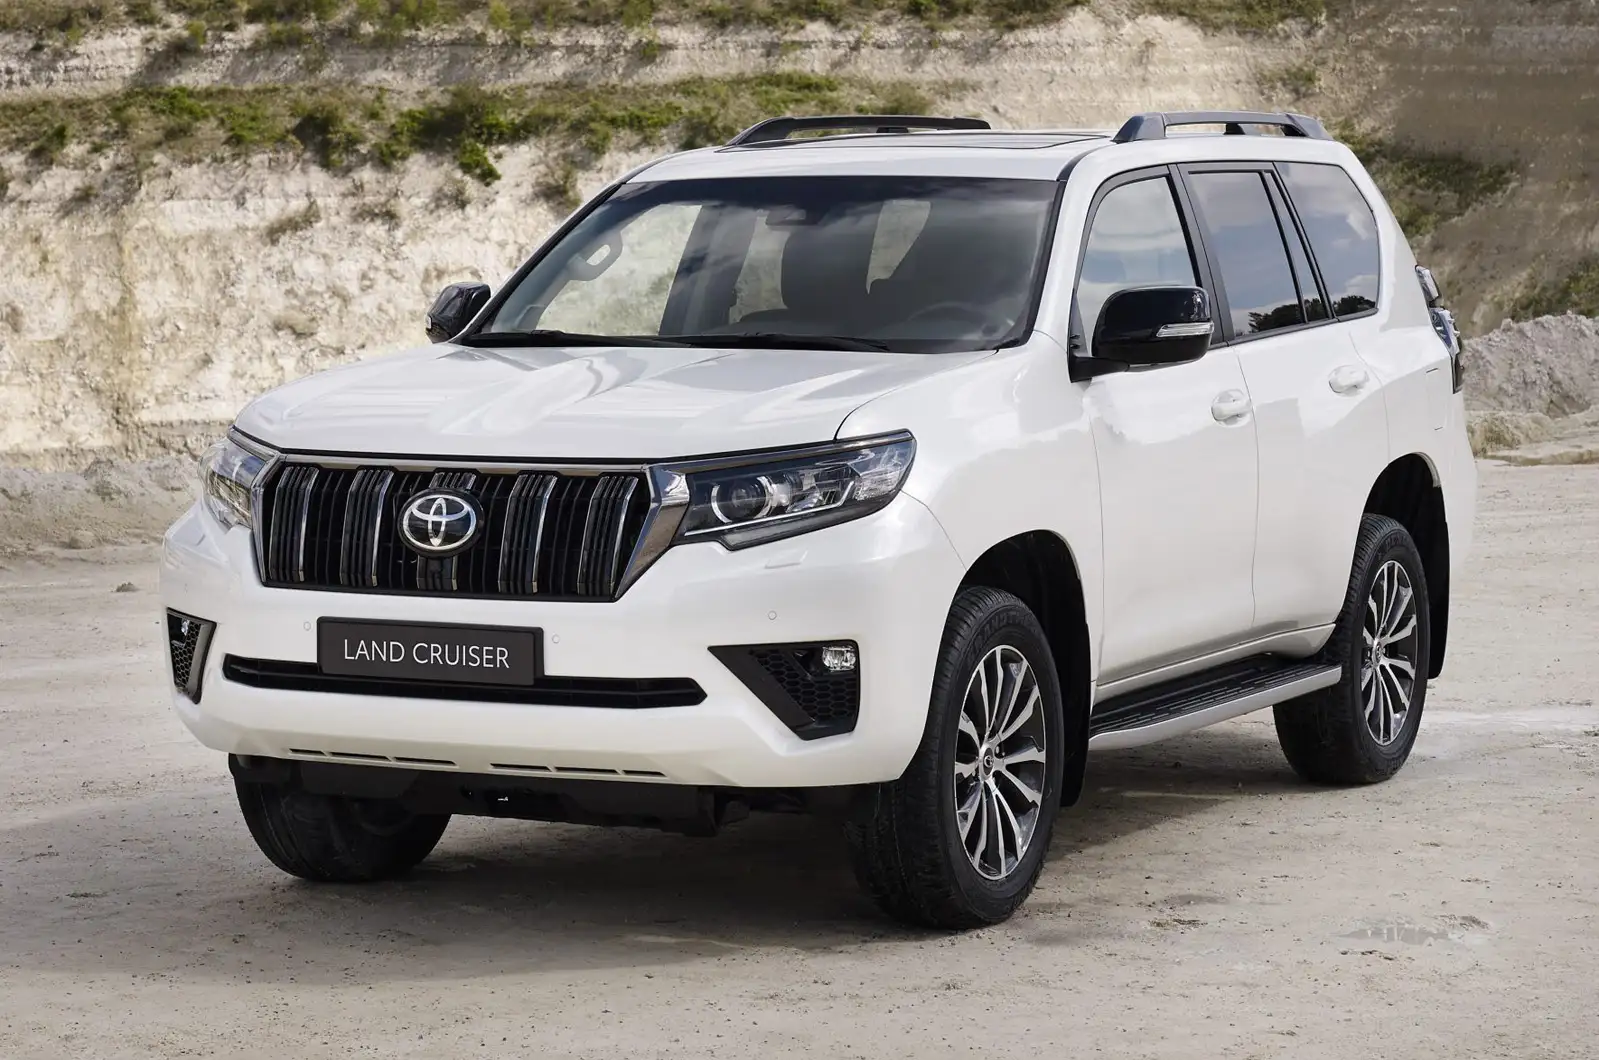car: (145, 101, 1490, 942)
